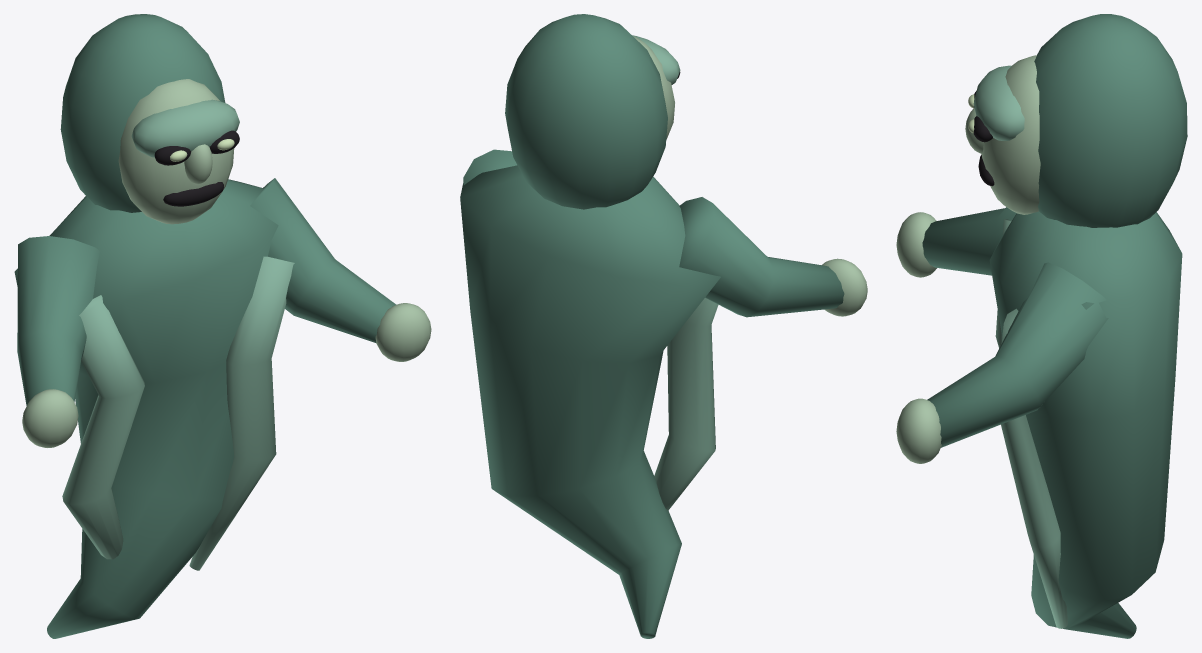
Rendered from monster-dust-feverish-patient.glb.
3 views of the same model, side by side, from view 1: azimuth 30°, elevation 25°; view 2: azimuth 150°, elevation 25°; view 3: azimuth 270°, elevation 25° (orthographic). The views are drawn at different scales.
Parts seen in each view (by area): view 1: dust-feverish-patient; view 2: dust-feverish-patient; view 3: dust-feverish-patient.
Boxes of the visible parts, x1,y1,x2,y2 form: dust-feverish-patient: [14, 14, 431, 638]; dust-feverish-patient: [460, 14, 867, 638]; dust-feverish-patient: [896, 14, 1187, 638].
Size of the model in its own units: 0.734 by 1.05 by 0.4224.
